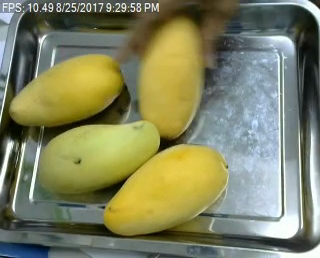Mango: (104, 143, 227, 236), (37, 120, 160, 196), (136, 16, 208, 138), (8, 53, 124, 126)
